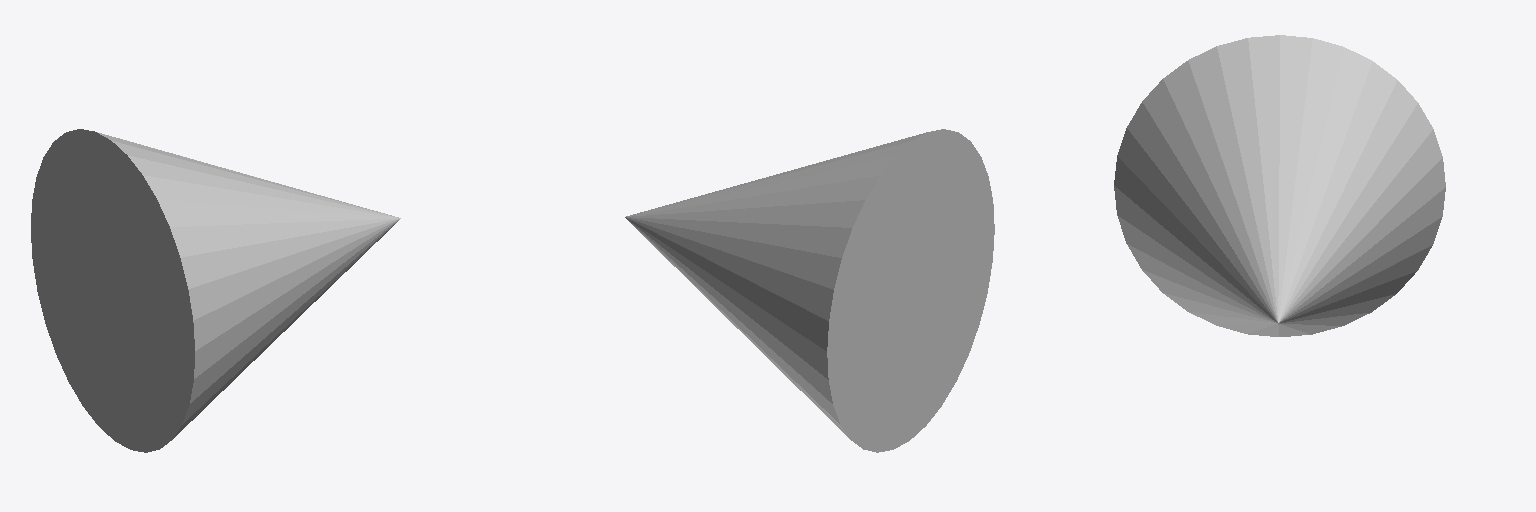
The model's file is select_arrow.obj.
3 views of the same model, side by side, from view 1: azimuth 30°, elevation 25°; view 2: azimuth 150°, elevation 25°; view 3: azimuth 270°, elevation 25° (orthographic).
Visible parts, largest first — view 1: Cone; view 2: Cone; view 3: Cone.
Part boxes in pixels (x1,y1,x2,y2): Cone: (31,129,400,452); Cone: (625,129,994,452); Cone: (1114,35,1445,336).
Size of the model in its own units: 2.01 by 2 by 2.